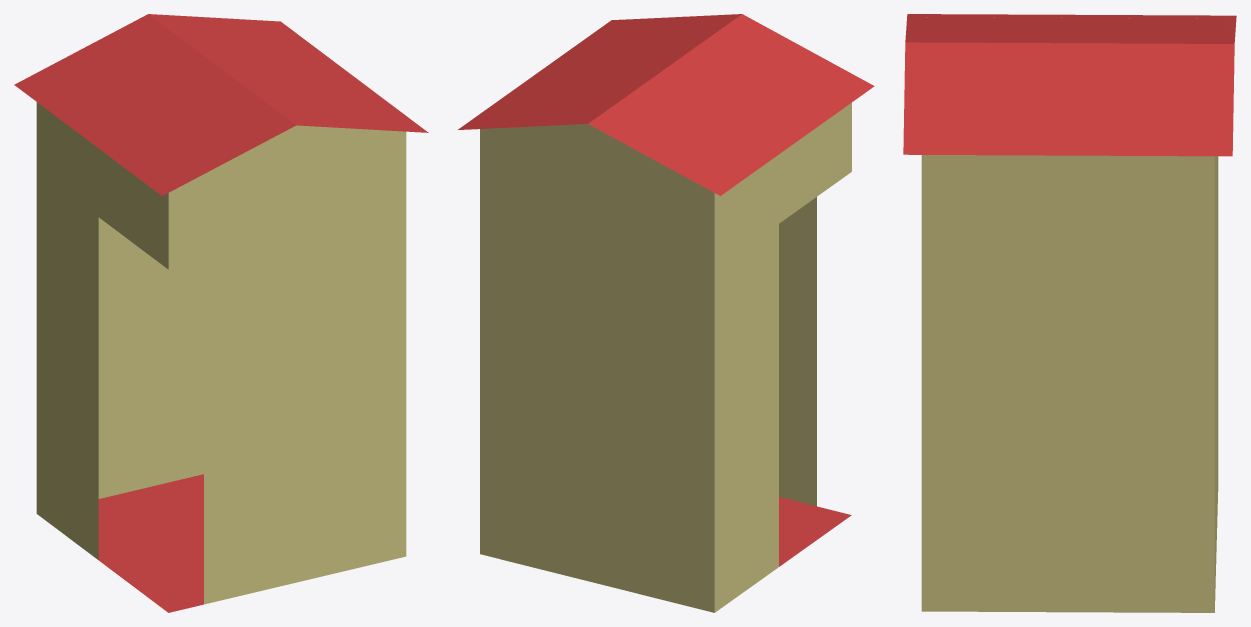
3 renders of one model, left to right at view 1: azimuth 30°, elevation 25°; view 2: azimuth 150°, elevation 25°; view 3: azimuth 270°, elevation 25°, orthographic. The views are drawn at different scales.
Visible parts, largest first — view 1: group_5, group_3, group_6, group_4; view 2: group_5, group_3, group_4, group_6; view 3: group_5, group_3, group_4.
Boxes of the visible parts, x1,y1,x2,y2 form: group_5: [36, 102, 406, 604]; group_3: [37, 14, 428, 182]; group_6: [98, 474, 203, 612]; group_4: [14, 14, 299, 195]; group_5: [480, 102, 851, 612]; group_3: [458, 14, 851, 181]; group_4: [588, 14, 874, 195]; group_6: [779, 497, 851, 566]; group_5: [921, 17, 1218, 612]; group_3: [903, 17, 1234, 156]; group_4: [905, 14, 1236, 51].
Bounding box in the file's own units: 9.29 × 9.19 × 15.42.
